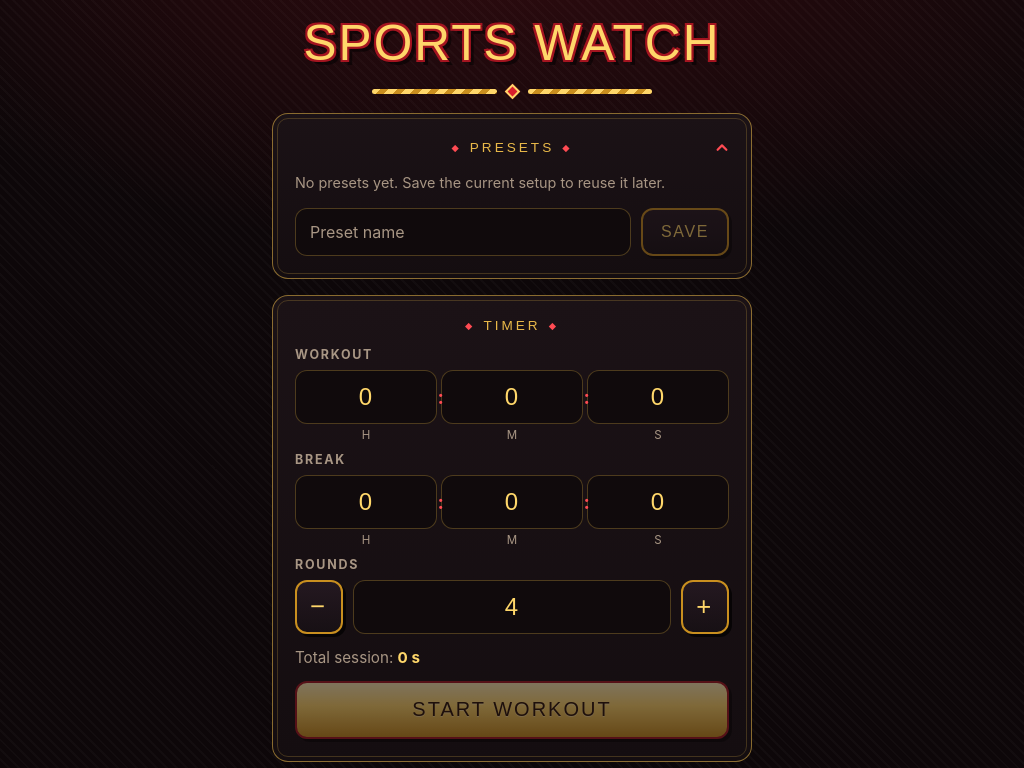
Test: collapses and expands the preset panel
Step 1. Click the button "Presets" → (512, 148), box x1=295 y1=136 x2=729 y2=159
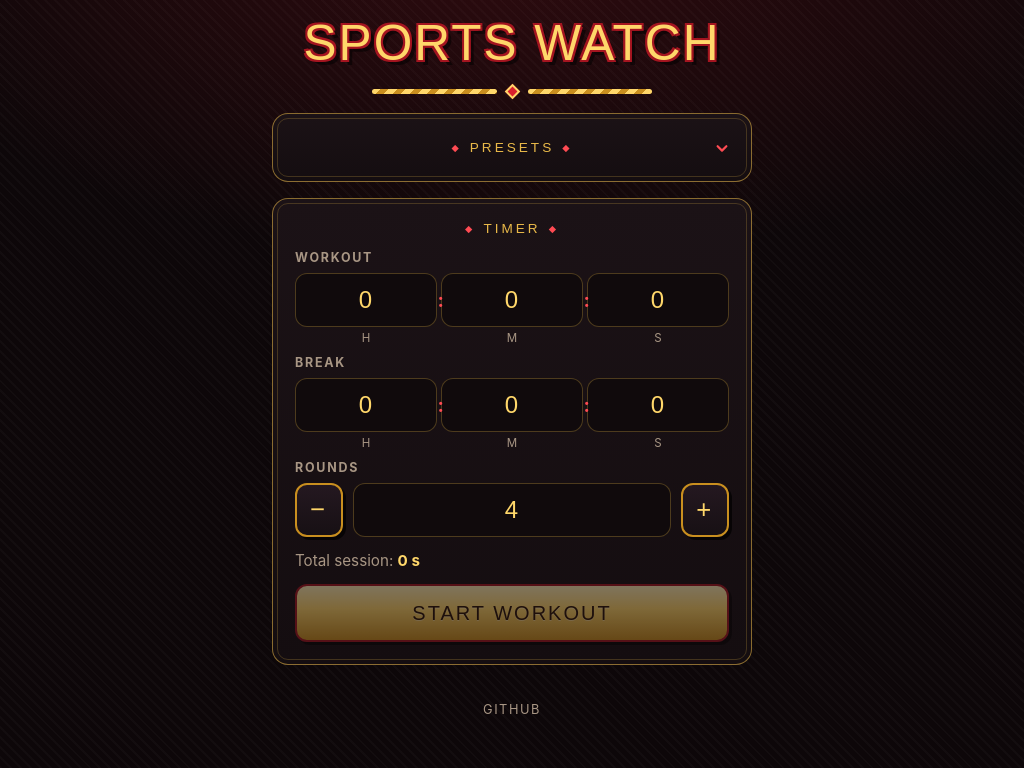
Expected: the field labelled "Preset name" is not shown
Expected: the button "Presets" is collapsed
Step 2. Click the button "Presets" → (512, 148), box x1=295 y1=136 x2=729 y2=159
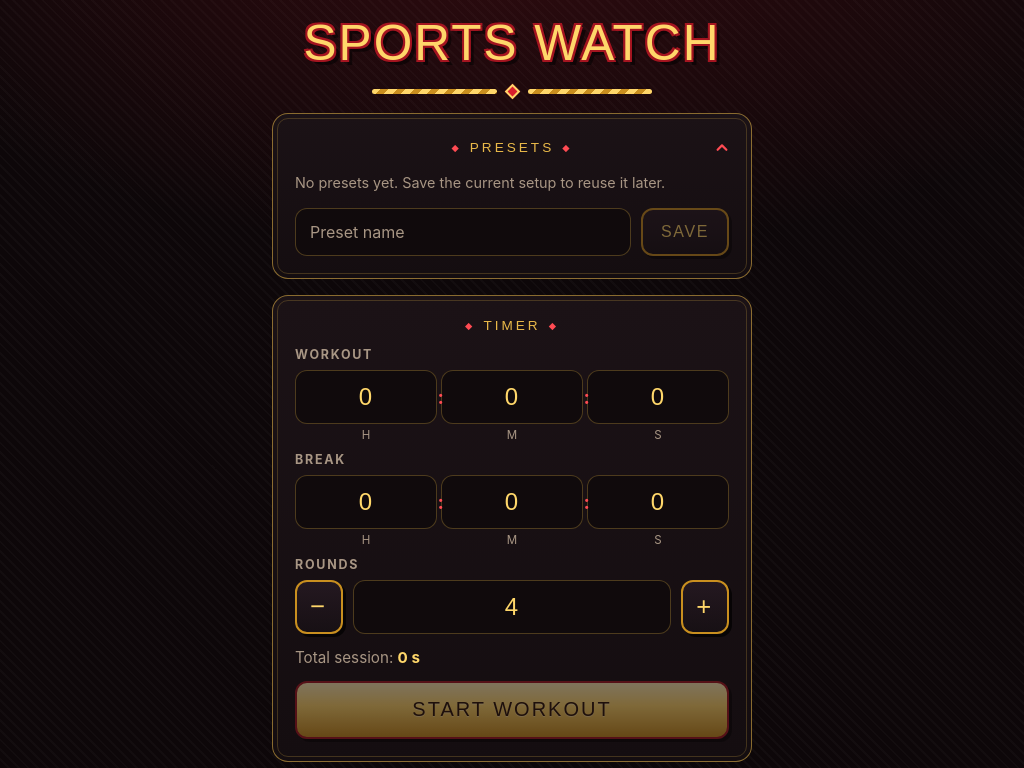
Expected: the button "Presets" is expanded, x1=295 y1=136 x2=729 y2=159
Expected: the field labelled "Preset name" is shown, x1=295 y1=208 x2=631 y2=256
